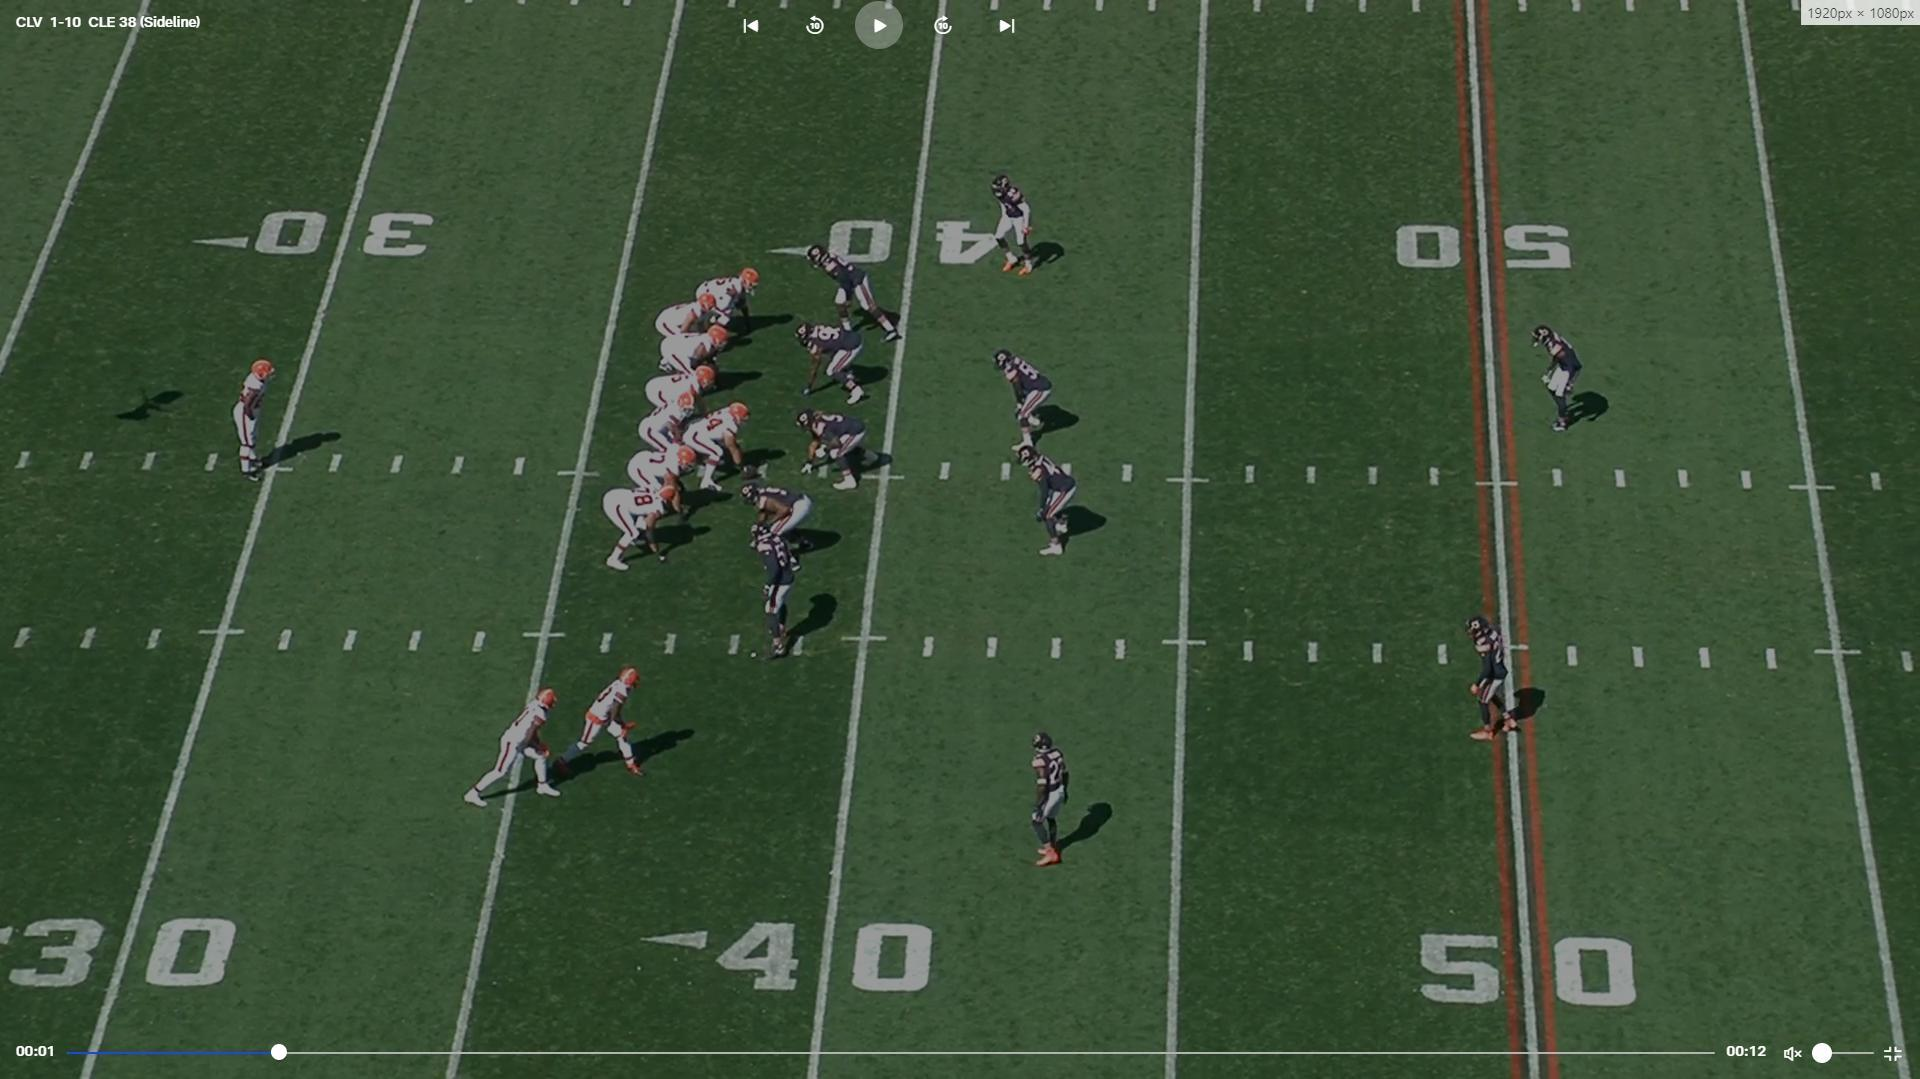defense: (812, 245, 902, 346), (1023, 723, 1079, 872), (796, 408, 891, 492), (1464, 608, 1520, 749), (748, 524, 804, 663), (1019, 442, 1084, 561), (997, 348, 1058, 466), (1535, 319, 1592, 438), (794, 321, 869, 408), (745, 480, 820, 554), (993, 169, 1043, 278)
oline: (684, 400, 761, 491), (604, 487, 680, 574), (632, 447, 702, 520), (662, 326, 732, 381), (642, 364, 712, 413)
qb: (640, 392, 704, 451)
skill: (460, 685, 566, 817), (554, 663, 647, 784), (228, 356, 278, 480), (651, 288, 717, 373), (695, 265, 762, 331)
